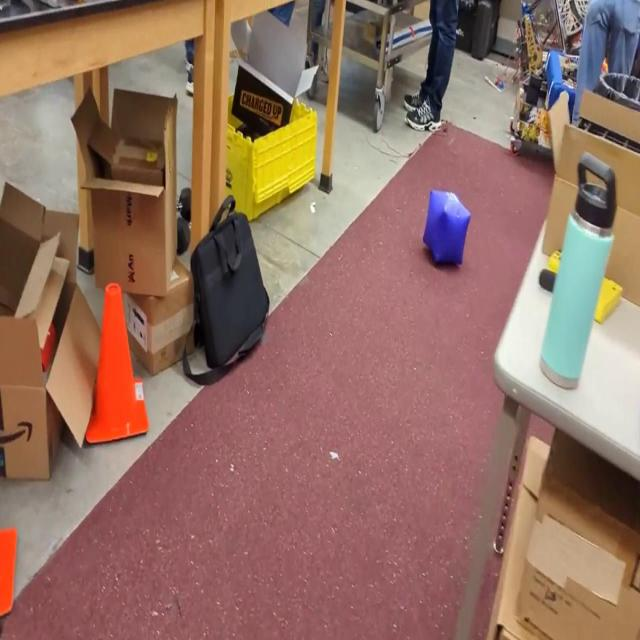frc_cube: (421, 188, 471, 266)
